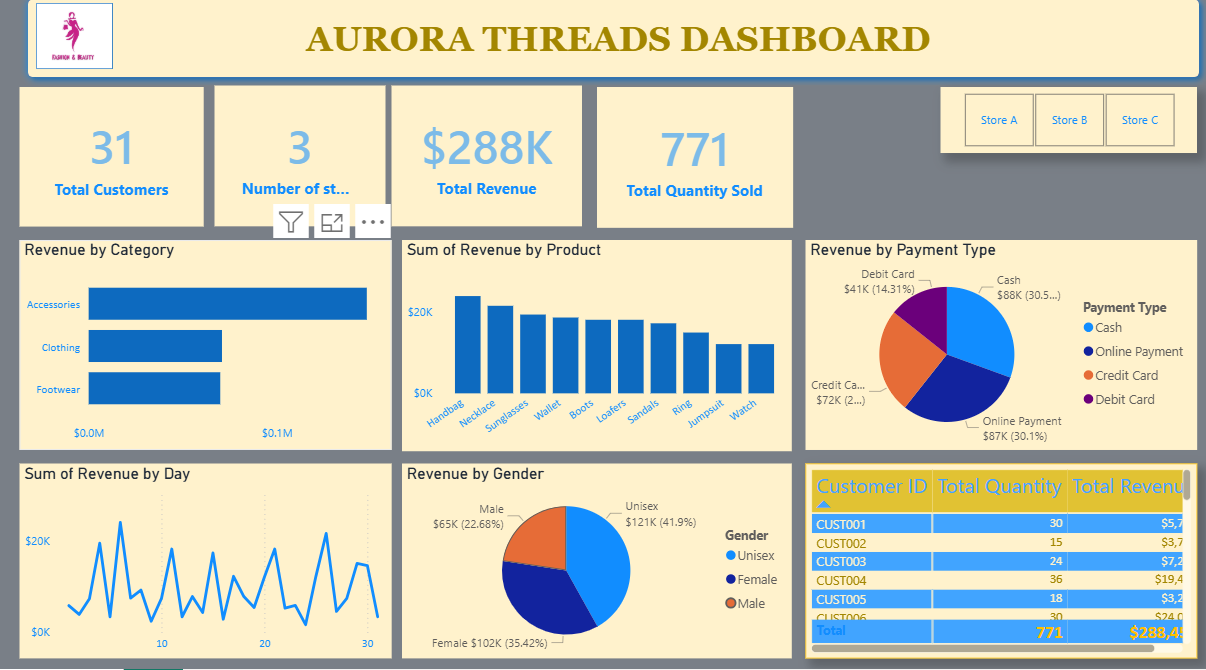

The dashboard page shown, as its layout file describes it:
{"tool":"powerbi","page":{"name":"AuroraThreads","canvas":[1280,720],"ordinal":0},"visuals":[{"type":"cardVisual","fields":{"Data":["Count(AuroraThreads.Customer ID)"]},"box":[20.7,101.8,195.6,147.9],"z":0},{"type":"cardVisual","fields":{"Data":["Sum(AuroraThreads.Revenue)"]},"box":[415.8,100.2,202.2,149.3],"z":1000},{"type":"cardVisual","fields":{"Data":["Count(AuroraThreads.Store)"]},"box":[227.5,100.2,181.3,149.5],"z":2000},{"type":"cardVisual","fields":{"Data":["Sum(AuroraThreads.Quantity)"]},"box":[633.1,102,207.9,149.3],"z":3000},{"type":"clusteredBarChart","title":" Revenue by Category","fields":{"Y":["Sum(AuroraThreads.Revenue)"],"Category":["AuroraThreads.Category"]},"box":[20.7,264,394.5,222.7],"z":4000},{"type":"clusteredColumnChart","fields":{"Category":["AuroraThreads.Product"],"Y":["Sum(AuroraThreads.Revenue)"]},"box":[426.3,264,413.6,224.3],"z":5000},{"type":"lineChart","fields":{"Y":["Sum(AuroraThreads.Revenue)"],"Category":["AuroraThreads.Date.Variation.Date Hierarchy.Day"]},"box":[20.7,501,394.5,206.8],"z":6000},{"type":"pieChart","title":"Revenue by Payment Type","fields":{"Category":["AuroraThreads.Payment Type"],"Y":["Sum(AuroraThreads.Revenue)"]},"box":[854.2,264,415.1,222.7],"z":7000},{"type":"pivotTable","fields":{"Rows":["AuroraThreads.Customer ID"],"Values":["Sum(AuroraThreads.Quantity)","Sum(AuroraThreads.Revenue)"]},"box":[854.2,501,415.1,206.8],"z":8000},{"type":"shape","box":[20.7,0,1259.8,100.2],"z":9000},{"type":"pieChart","title":"Revenue by Gender","fields":{"Y":["Sum(AuroraThreads.Revenue)"],"Category":["AuroraThreads.Gender"]},"box":[426.3,501,413.6,206.8],"z":10000},{"type":"slicer","fields":{"Values":["AuroraThreads.Store"]},"box":[997.3,101.8,272,70],"z":11000},{"type":"image","box":[38.2,12.7,81.1,70],"z":12000}]}

Visuals, with their boxes in screenshot pixels (x1, y1, x2, y2), scaled from the page's 1280x720 canvas onto the 1206x670 screenshot:
cardVisual - Count(AuroraThreads.Customer ID): crop(20, 95, 204, 232)
cardVisual - Sum(AuroraThreads.Revenue): crop(392, 93, 582, 232)
cardVisual - Count(AuroraThreads.Store): crop(214, 93, 385, 232)
cardVisual - Sum(AuroraThreads.Quantity): crop(596, 95, 792, 234)
" Revenue by Category" clusteredBarChart: crop(20, 246, 391, 453)
clusteredColumnChart - AuroraThreads.Product x Sum(AuroraThreads.Revenue): crop(402, 246, 791, 454)
lineChart - Sum(AuroraThreads.Revenue) x AuroraThreads.Date.Variation.Date Hierarchy.Day: crop(20, 466, 391, 659)
"Revenue by Payment Type" pieChart: crop(805, 246, 1196, 453)
pivotTable - AuroraThreads.Customer ID x Sum(AuroraThreads.Quantity): crop(805, 466, 1196, 659)
shape: crop(20, 0, 1205, 93)
"Revenue by Gender" pieChart: crop(402, 466, 791, 659)
slicer - AuroraThreads.Store: crop(940, 95, 1196, 160)
image: crop(36, 12, 112, 77)
